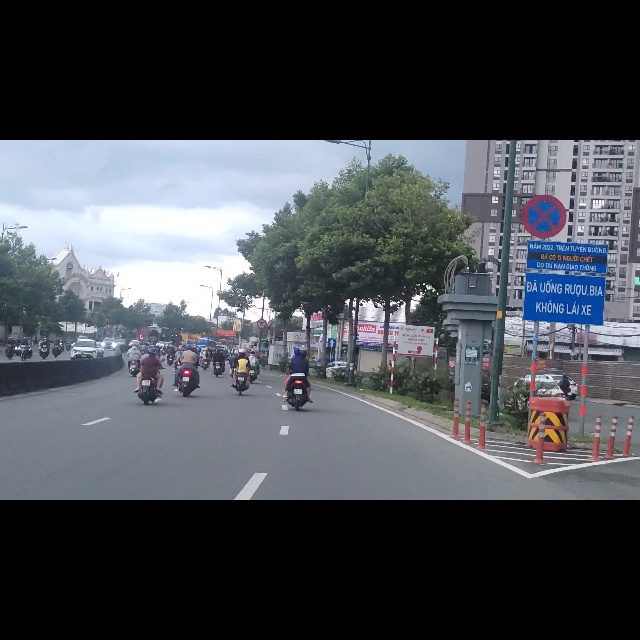bien_cam: (521, 96, 567, 176), (256, 318, 267, 337), (328, 351, 336, 368)
